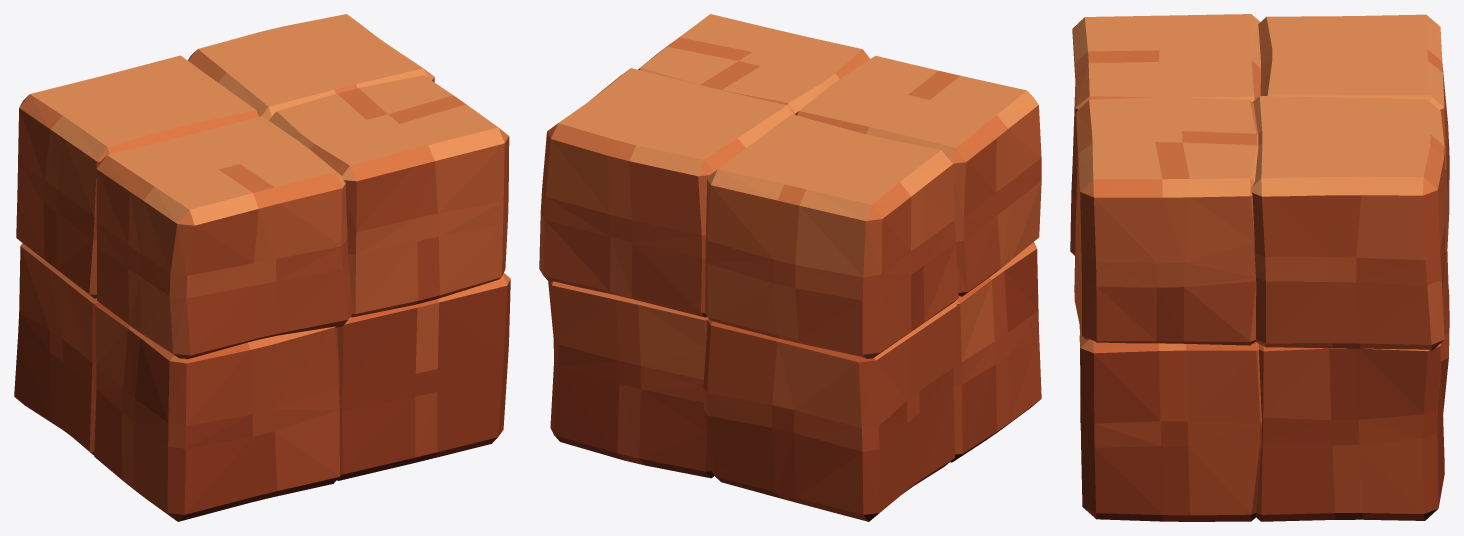
The model's file is SM_ROCK_BLOCK_05.fbx.
The picture shows the model from 3 angles, left to right: view 1: azimuth 30°, elevation 25°; view 2: azimuth 150°, elevation 25°; view 3: azimuth 270°, elevation 25°; orthographic projection. The views are drawn at different scales.
Visible parts, largest first — view 1: ROCK_BLOCK_05; view 2: ROCK_BLOCK_05; view 3: ROCK_BLOCK_05.
Boxes of the visible parts, left/top/right/bottom form: ROCK_BLOCK_05: left=14, top=14, right=510, bottom=521; ROCK_BLOCK_05: left=539, top=14, right=1041, bottom=521; ROCK_BLOCK_05: left=1070, top=14, right=1449, bottom=521.
Size of the model in its own units: 1.6 by 1.39 by 1.4.
